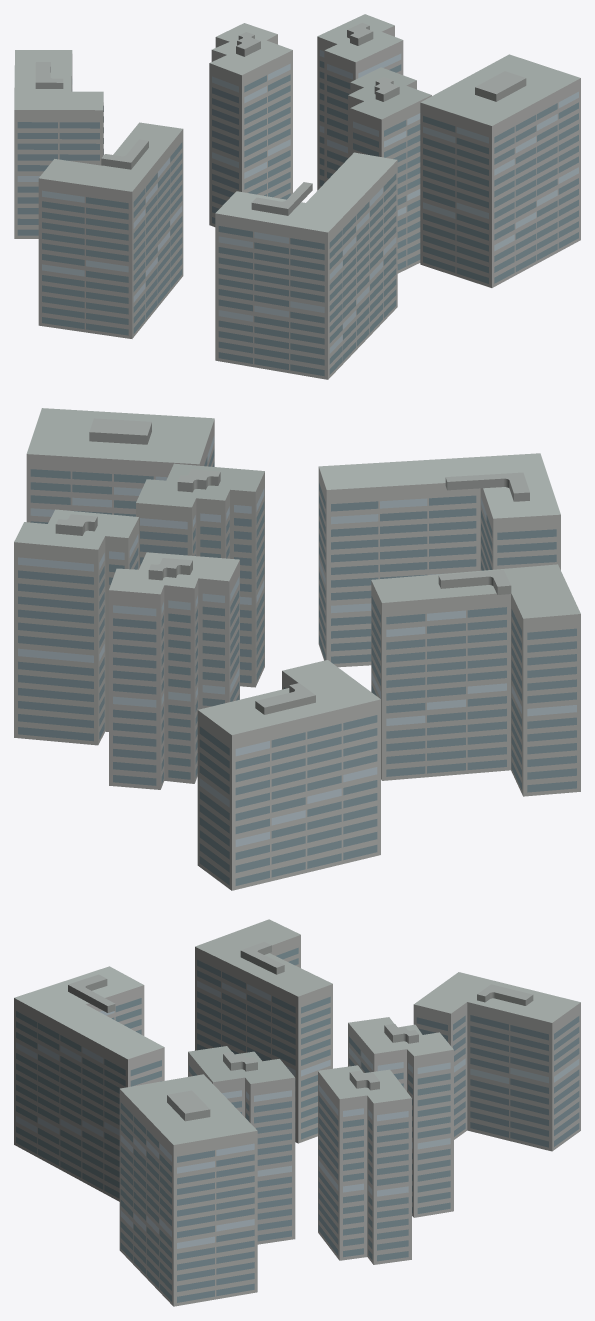
File: apt-a10026517.glb
3 views of the same model, one above another, from view 1: azimuth 30°, elevation 25°; view 2: azimuth 150°, elevation 25°; view 3: azimuth 270°, elevation 25° (orthographic). The views are drawn at different scales.
Parts seen in each view (by area): view 1: apt-a10026517; view 2: apt-a10026517; view 3: apt-a10026517.
Part boxes in pixels (<box>): apt-a10026517: <box>14,14,580,379</box>; apt-a10026517: <box>14,408,580,890</box>; apt-a10026517: <box>14,919,580,1306</box>.
Bounding box in the file's own units: 134 × 44 × 134.
